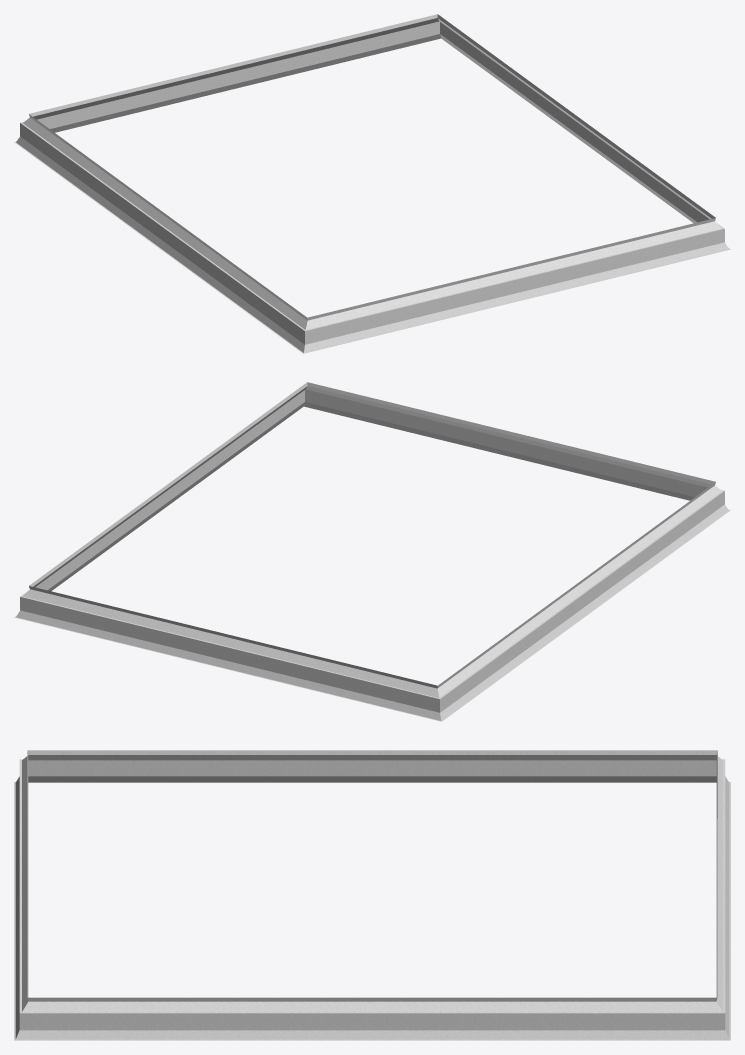
File: shigaoxian01.fbx
3 renders of one model, top to bottom at view 1: azimuth 30°, elevation 25°; view 2: azimuth 150°, elevation 25°; view 3: azimuth 270°, elevation 25°, orthographic. The views are drawn at different scales.
Parts seen in each view (by area): view 1: shigaoxian01; view 2: shigaoxian01; view 3: shigaoxian01.
Part boxes in pixels (<box>): shigaoxian01: <box>14,14,730,353</box>; shigaoxian01: <box>14,382,730,721</box>; shigaoxian01: <box>14,750,730,1040</box>.
Bounding box in the file's own units: 233 × 15.59 × 273.
